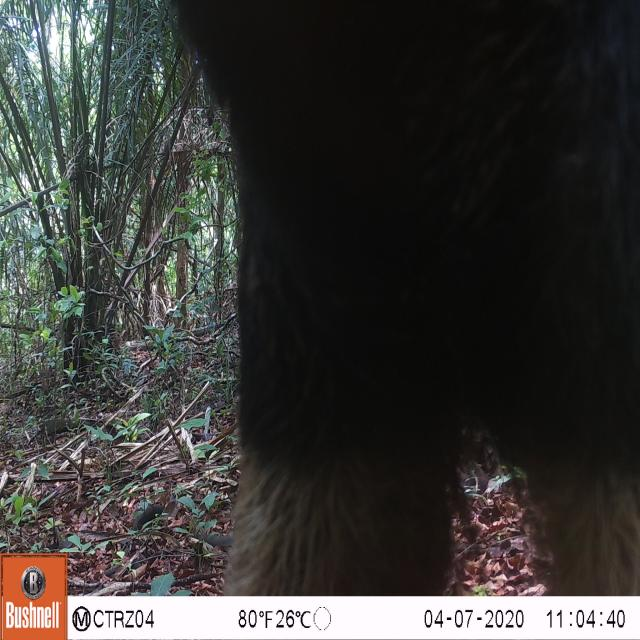Giant Anteater: (167, 0, 639, 591)
